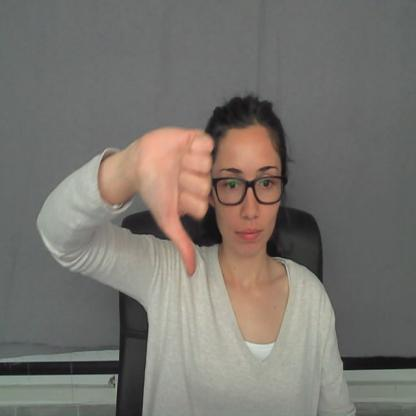thumbs-down: (141, 116, 221, 282)
